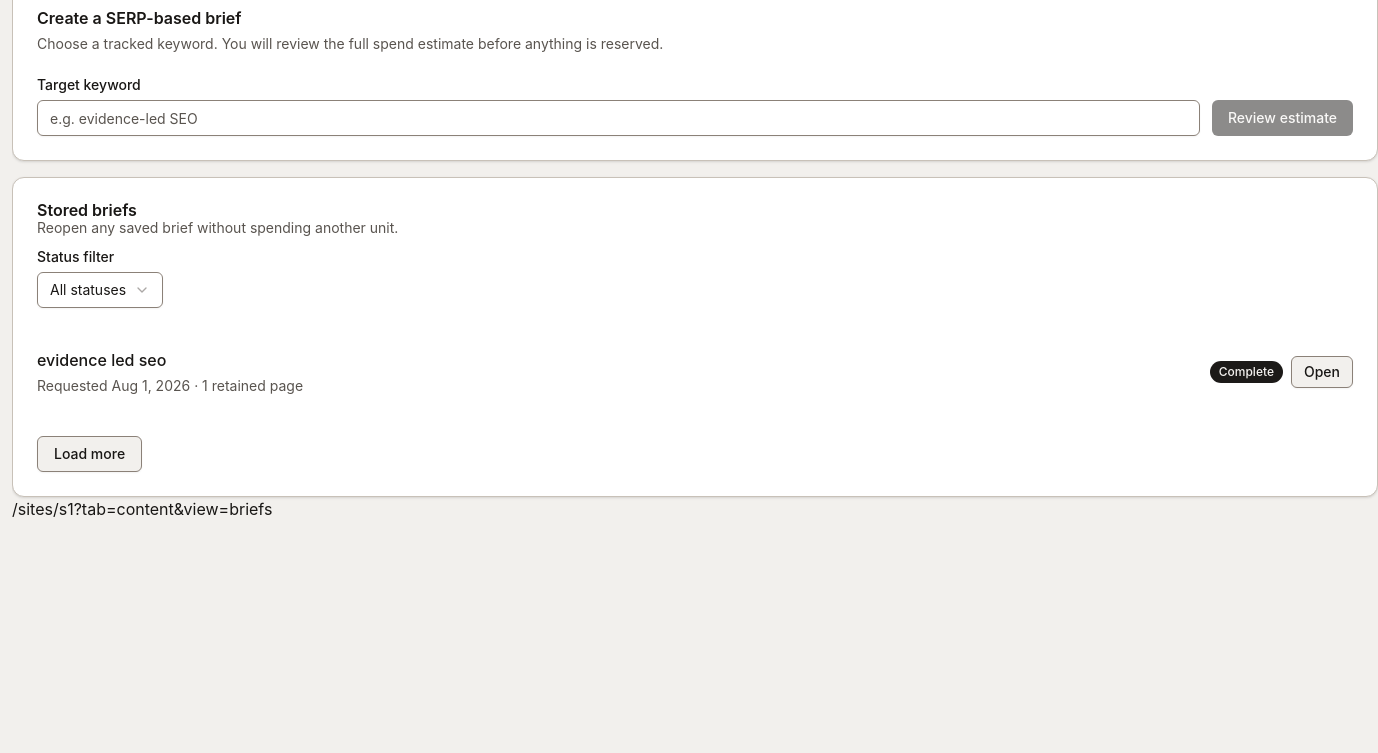
Test case: content briefs list and request flow › lists, filters, opens, paginates, and retries URL-backed results
Expected: the list item with test id "content-brief-row-brief-1" shows "evidence led seo", [37, 350, 166, 370]
Click the button "Load more": (90, 454) [37, 436, 142, 472]
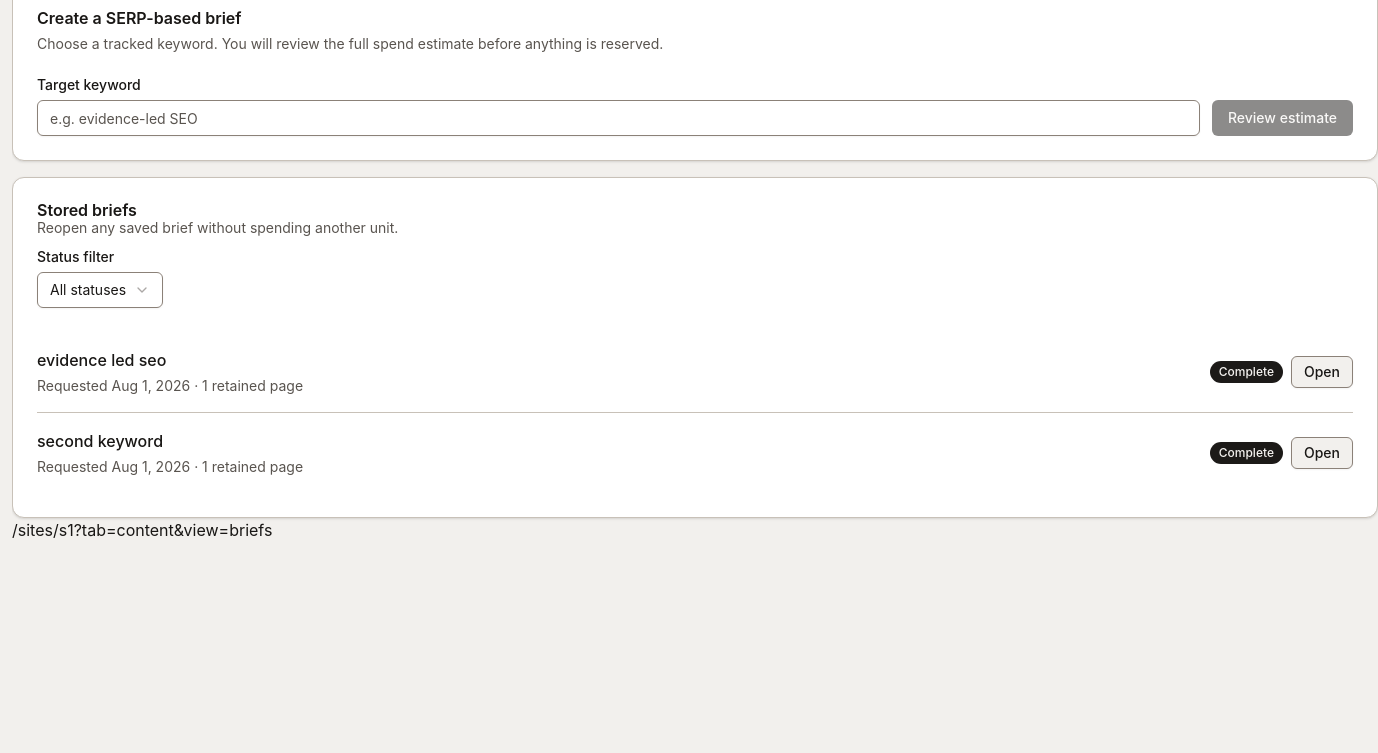
Result: the list item with test id "content-brief-row-brief-2" is shown at [37, 431, 1353, 475]
Click the dropdown named "Status filter": (100, 290) [37, 272, 163, 308]
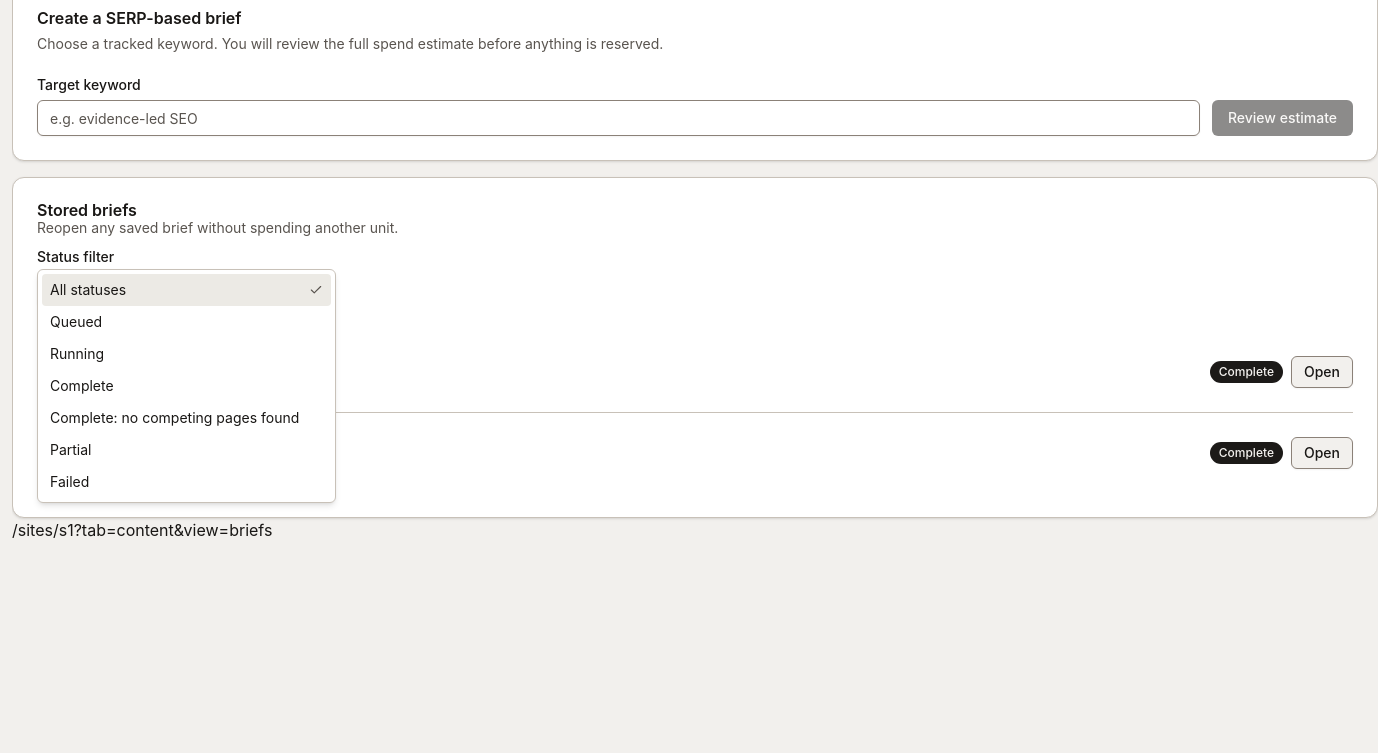
Click the option "Complete": (82, 386) [50, 377, 114, 394]
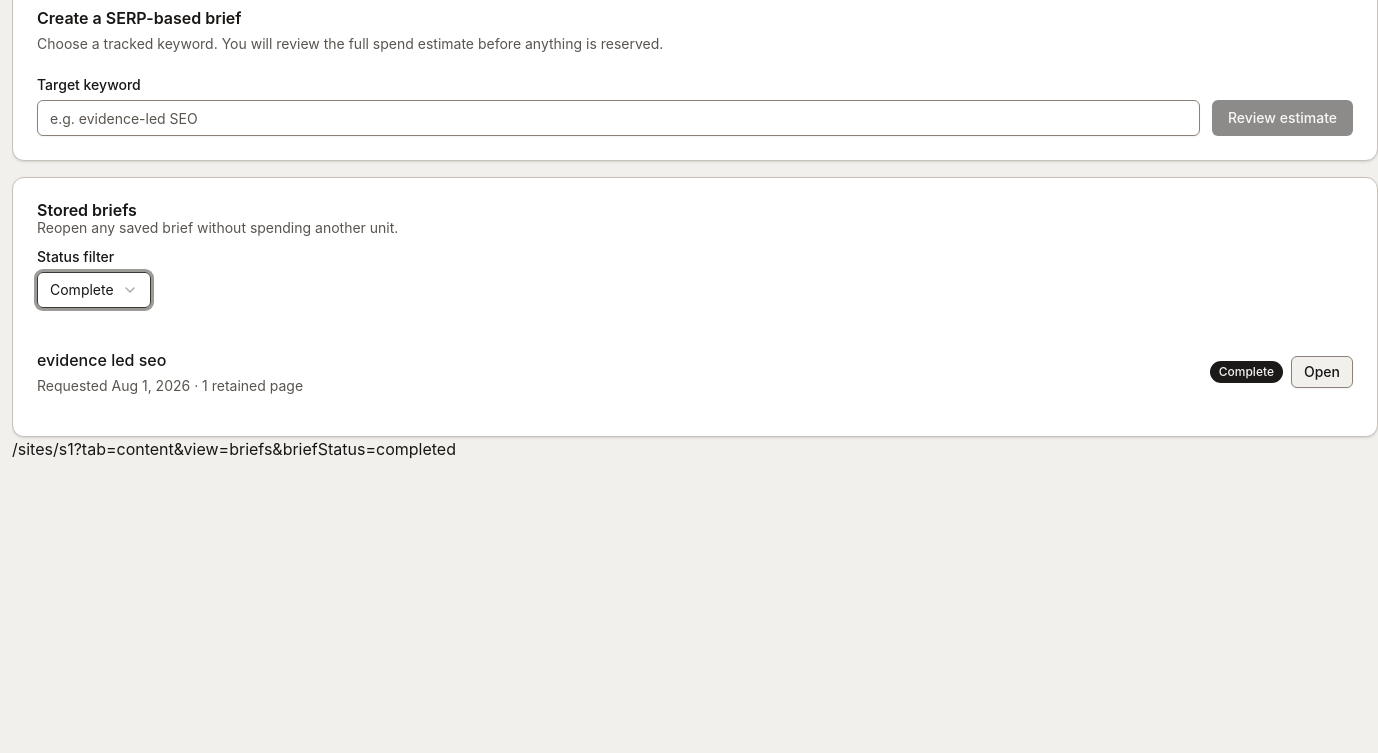
Result: the text with test id "location" shows "briefStatus=completed" at [74, 439, 456, 459]
Click the button "Open": (1322, 372) [1291, 356, 1353, 388]
(page scrolled)
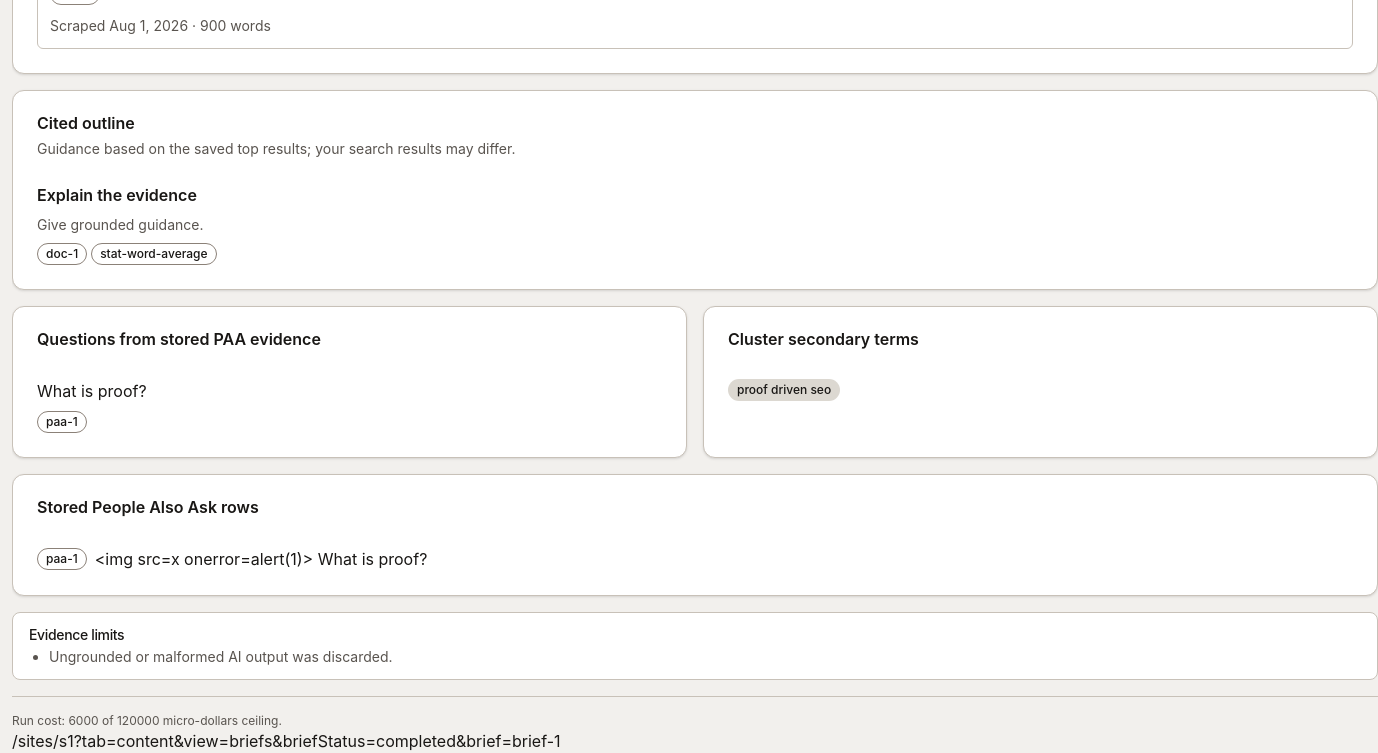
Result: the text with test id "location" shows "brief=brief-1" at [74, 731, 560, 751]
